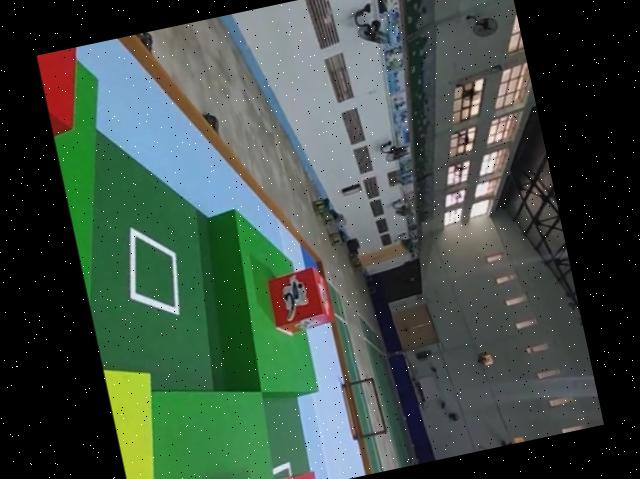R1: (261, 260, 340, 338)
R2 Real: (162, 464, 321, 479)
